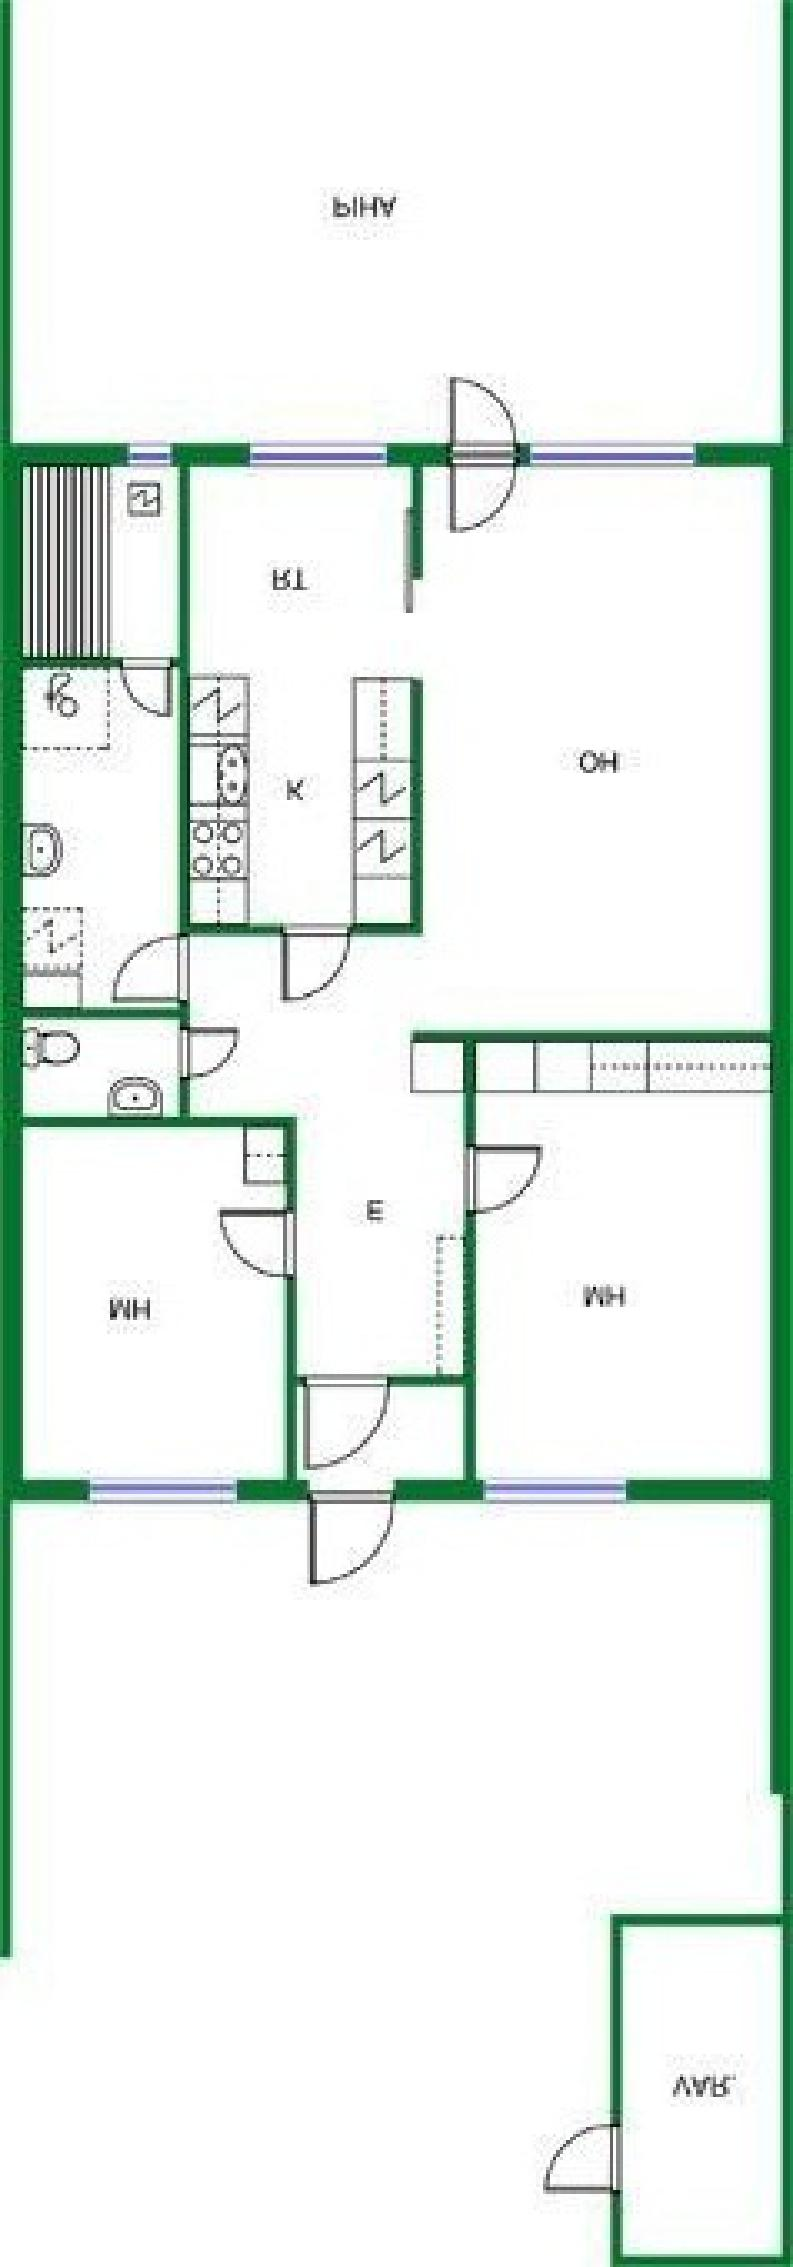door: (441, 361, 530, 548), (531, 2111, 651, 2199), (313, 1483, 396, 1598), (300, 1382, 392, 1479), (282, 918, 370, 1003), (467, 1148, 551, 1227), (101, 935, 190, 1011), (111, 651, 182, 733), (221, 1212, 289, 1280), (175, 1032, 236, 1089)
window: (525, 428, 699, 476), (82, 1472, 232, 1518), (480, 1478, 634, 1511), (242, 440, 392, 470), (132, 437, 156, 460)
zone: (12, 1494, 793, 2267), (197, 479, 770, 1482), (12, 1, 768, 438), (480, 1028, 752, 1488), (190, 453, 407, 922), (22, 1120, 297, 1483), (619, 1926, 781, 2267), (30, 479, 174, 659), (26, 1018, 182, 1118)
